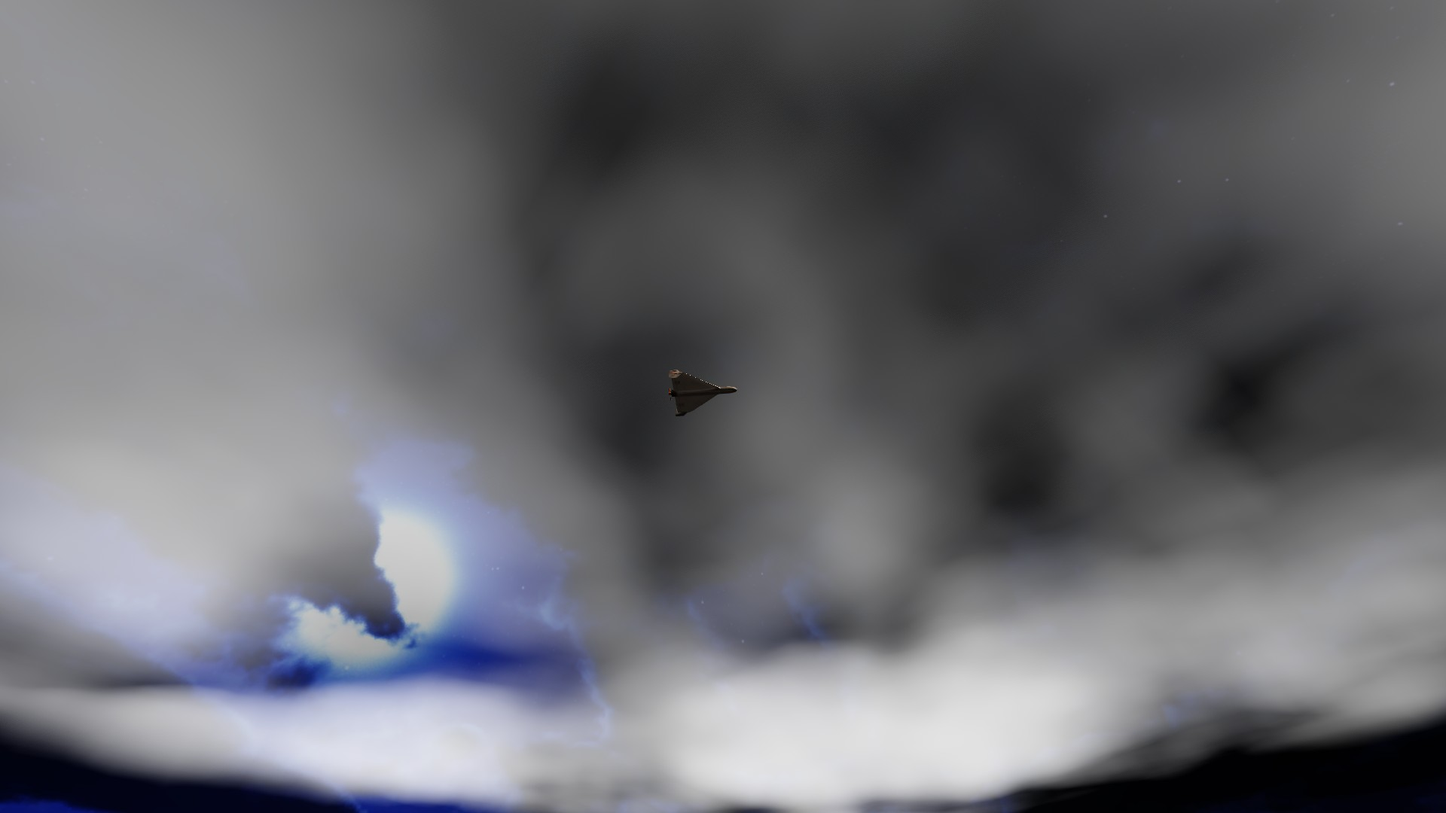shahed: (668, 370, 737, 417)
